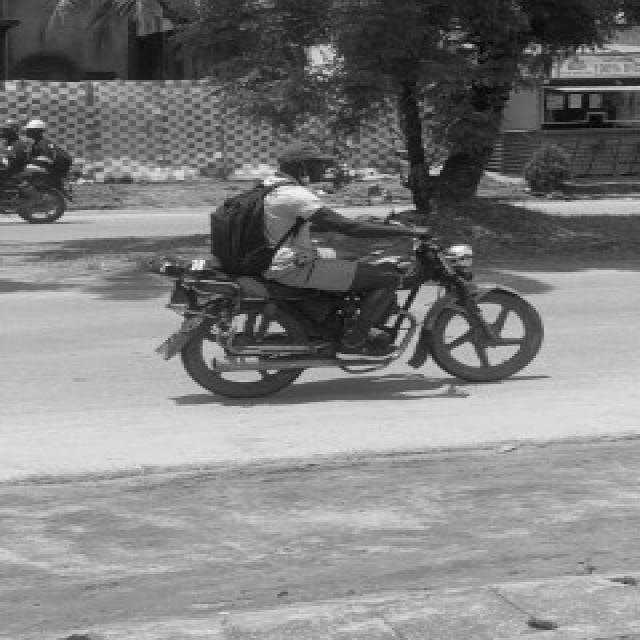SUV: (146, 136, 545, 398)
